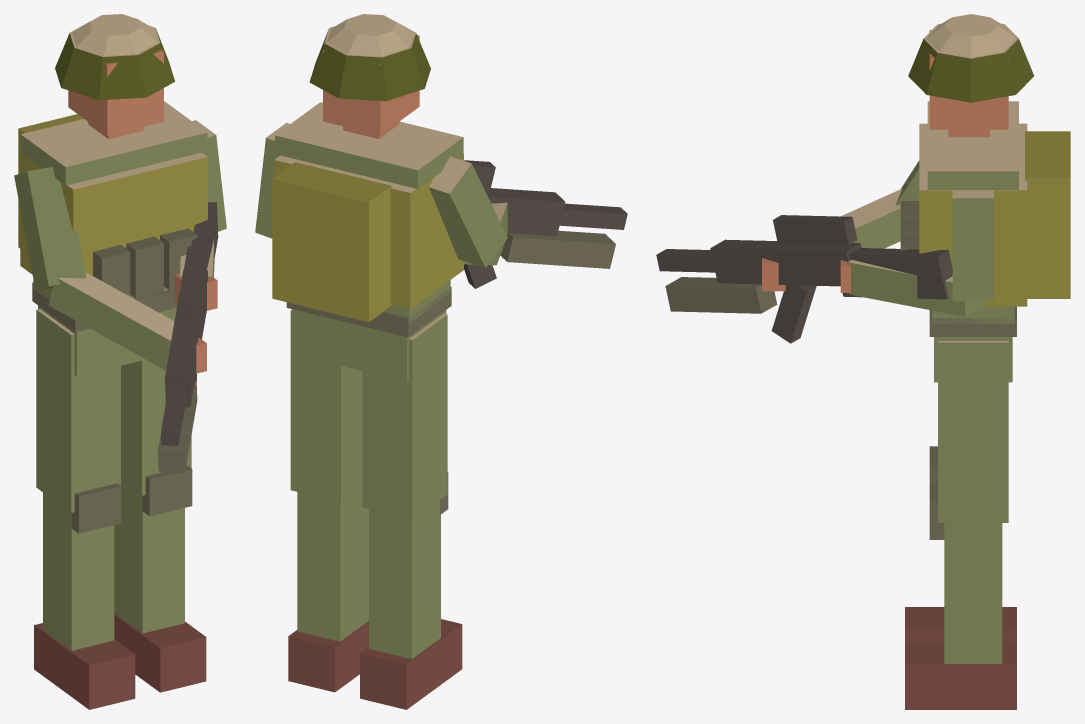
File: SM_SoldadoArmado_v1_G36E_AG36_Reposo_LOD1.fbx
The picture shows the model from 3 angles, left to right: view 1: azimuth 30°, elevation 25°; view 2: azimuth 150°, elevation 25°; view 3: azimuth 270°, elevation 25°; orthographic projection.
Parts seen in each view (by area): view 1: SM_bloques.soldado_armado_v1_LOD1; view 2: SM_bloques.soldado_armado_v1_LOD1; view 3: SM_bloques.soldado_armado_v1_LOD1.
Part boxes in pixels (x1,y1,x2,y2): SM_bloques.soldado_armado_v1_LOD1: (14, 14, 226, 709); SM_bloques.soldado_armado_v1_LOD1: (255, 14, 627, 709); SM_bloques.soldado_armado_v1_LOD1: (656, 14, 1070, 709).
Bounding box in the file's own units: 0.5846 × 1.75 × 0.9998.
